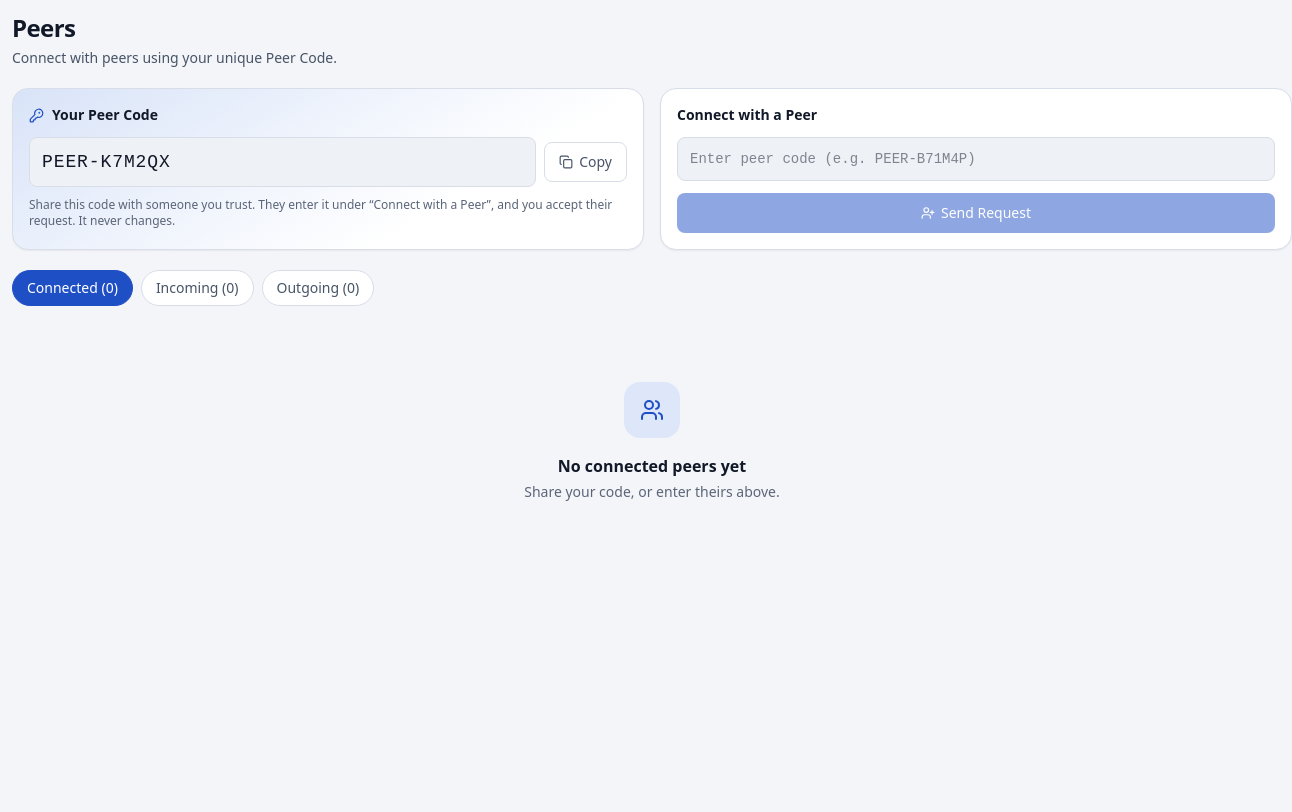
PeersPanel › sends a request with a normalized code and reports success
Expected: the text "PEER-K7M2QX" is shown, top-left (29, 137), bottom-right (536, 187)
Type "ab12cd" into the field labelled "Connect with a Peer" at (976, 159), box top-left (677, 137), bottom-right (1275, 181)
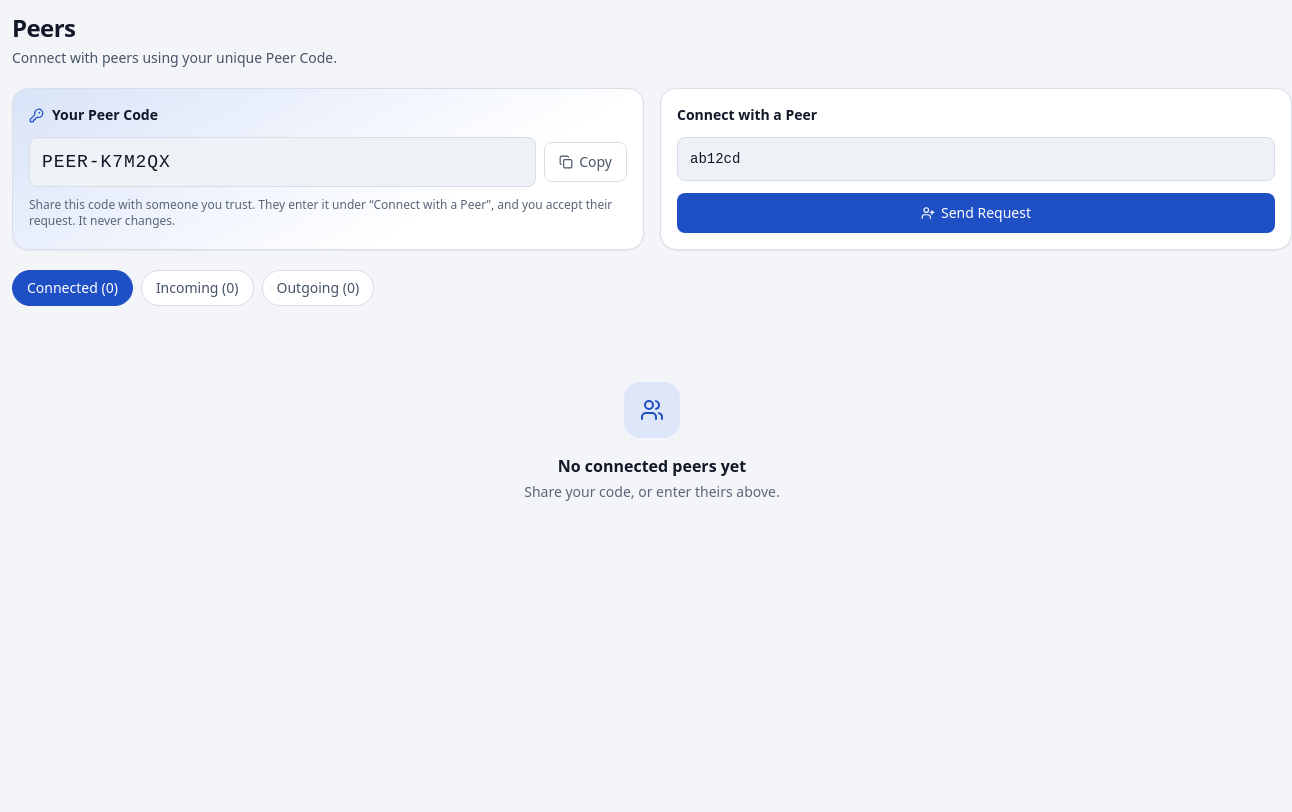
Click the button "Send Request" at (976, 213), box top-left (677, 193), bottom-right (1275, 233)
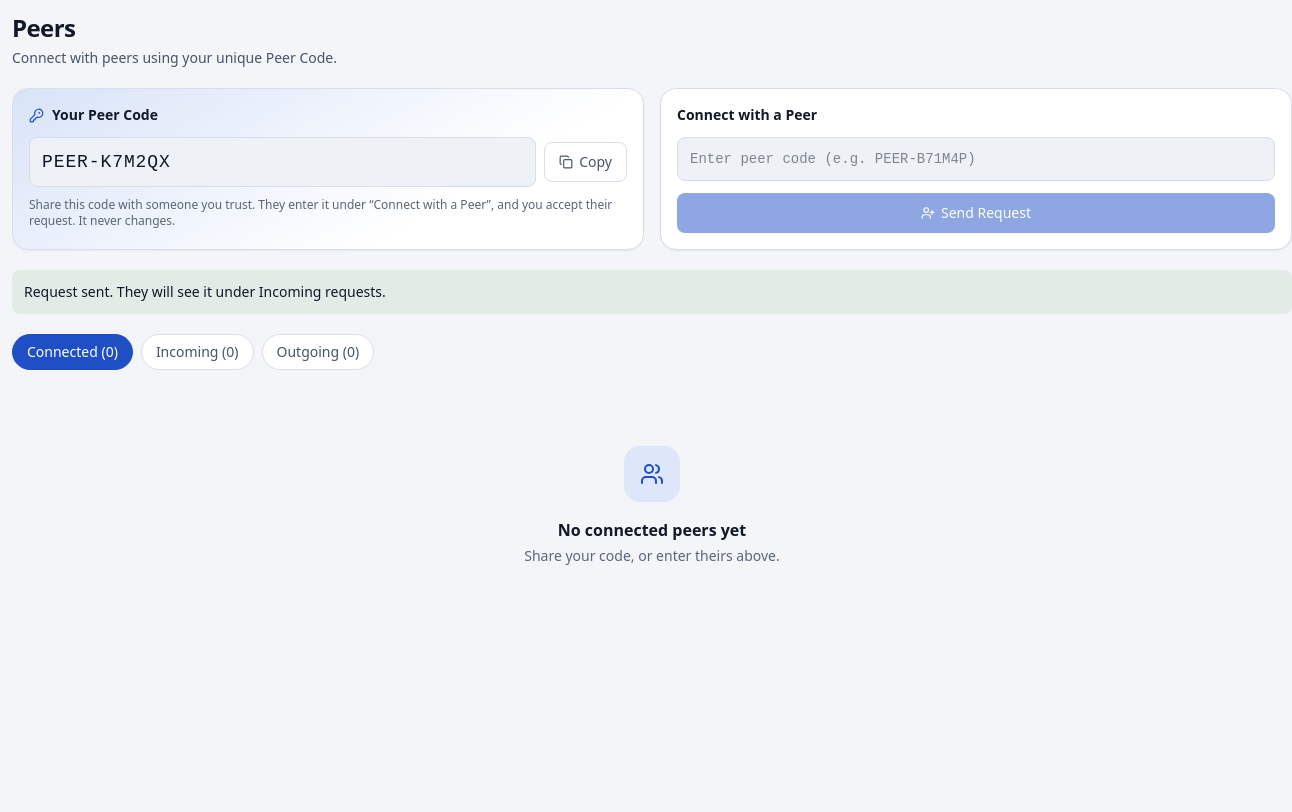
Now the text "Request sent. They will see it under Incoming requests." is shown, box top-left (12, 270), bottom-right (1291, 314)
